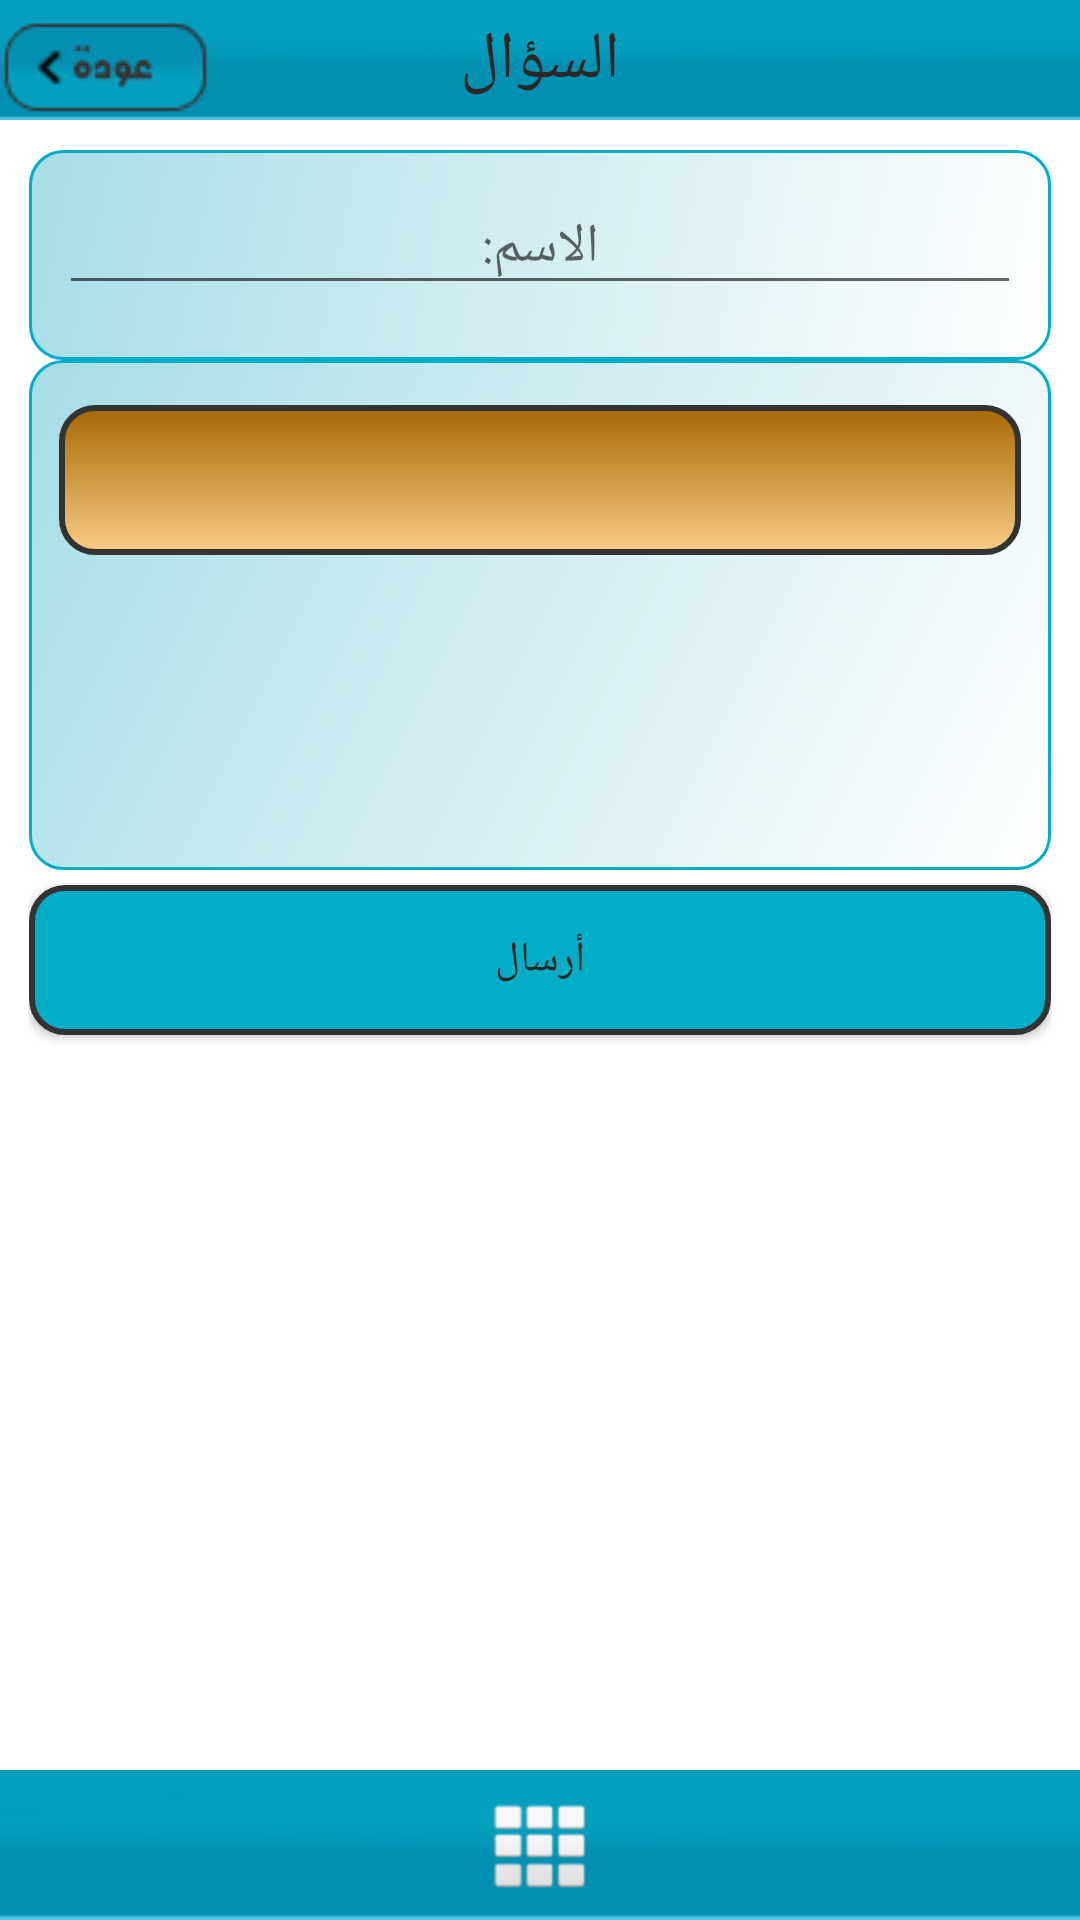

Icon click points for this 1080*1920 phone screenshot, format (x=x, y=y):
dialer: (x=540, y=1845)
